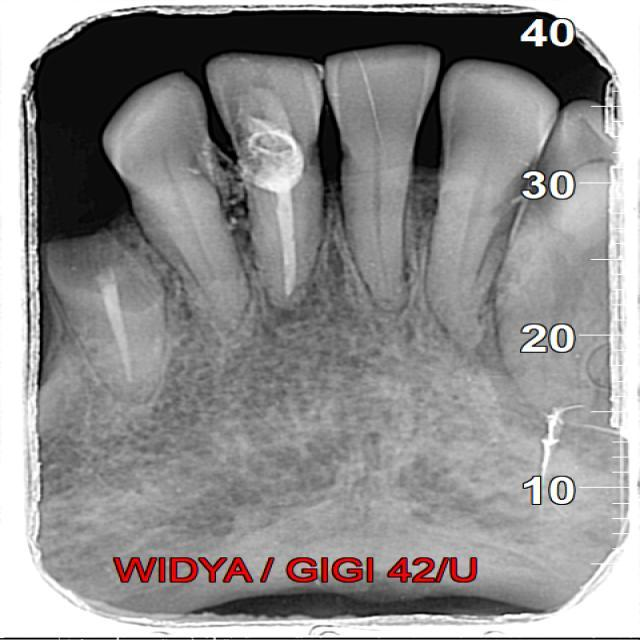individual-tooth-8tto: (427, 72, 573, 361), (101, 73, 251, 319), (213, 54, 347, 310), (323, 45, 439, 309)
